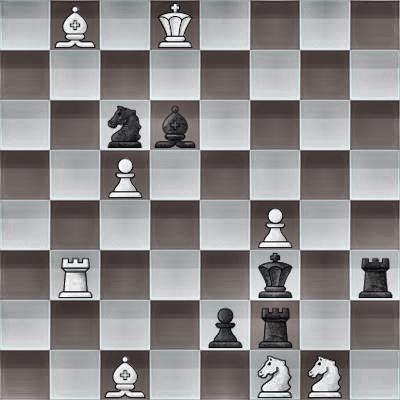black-bishop: (150, 100, 200, 150)
black-king: (250, 250, 300, 300)
black-knight: (100, 100, 150, 150)
black-pawn: (200, 300, 250, 350)
black-rook: (350, 250, 400, 300), (250, 300, 300, 350)
white-bishop: (50, 0, 100, 50), (100, 350, 150, 400)
white-king: (150, 0, 200, 50)
white-knight: (250, 350, 300, 400), (300, 350, 350, 400)
white-pawn: (100, 150, 150, 200), (250, 200, 300, 250)
white-rook: (50, 250, 100, 300)
